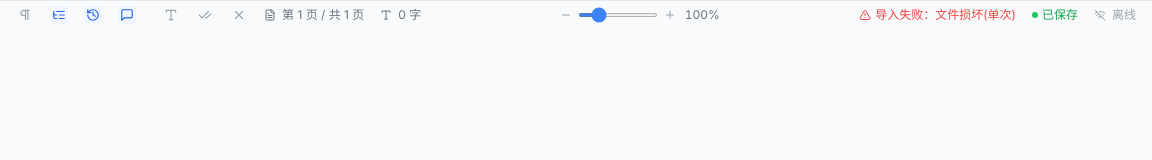
Scenario: StatusBar 引擎错误提示 › 点击关闭 → 提示消失, 且同一条错误不再弹回来
The width and height of the screenshot is (1152, 160).
Click the button with aria-label "引擎错误".
click(938, 14)  # box [859,6,1016,22]
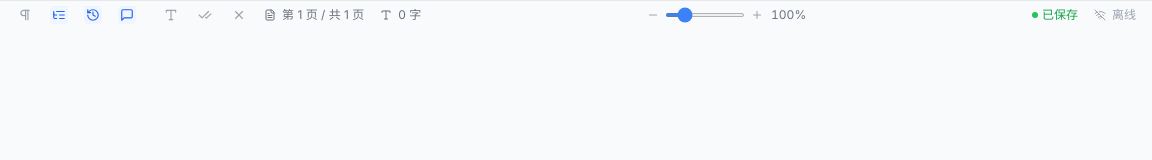
Check: the button "导入失败：文件损坏(单次)" is gone
